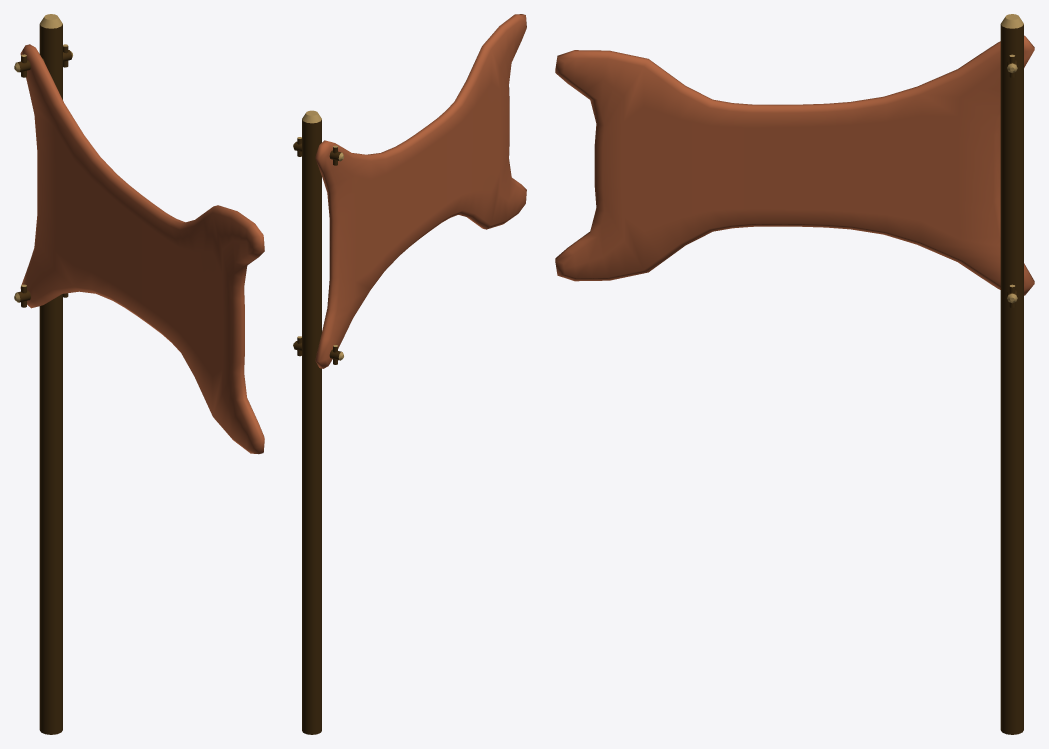
Rendered from SM_GoblinCamp_Banner.fbx.
3 renders of one model, left to right at view 1: azimuth 30°, elevation 25°; view 2: azimuth 150°, elevation 25°; view 3: azimuth 270°, elevation 25°, orthographic. The views are drawn at different scales.
Parts seen in each view (by area): view 1: Cube; view 2: Cube; view 3: Cube.
Boxes of the visible parts, bbox=[...] form: Cube: bbox=[14, 14, 264, 734]; Cube: bbox=[293, 14, 526, 734]; Cube: bbox=[555, 14, 1034, 734].
Size of the model in its own units: 28.01 by 336 by 205.
